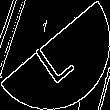L_NW: (31, 26, 79, 84)
